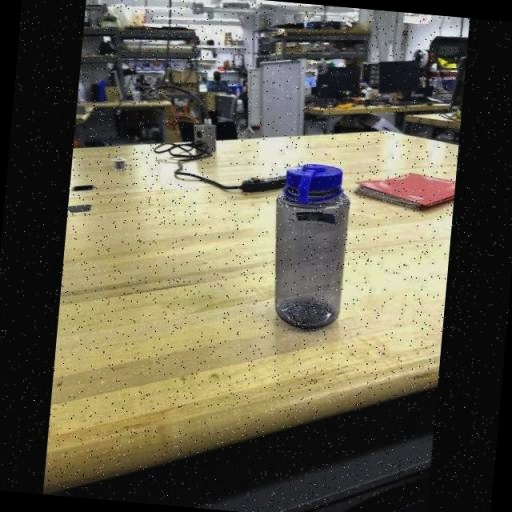bottle: (265, 161, 353, 332)
